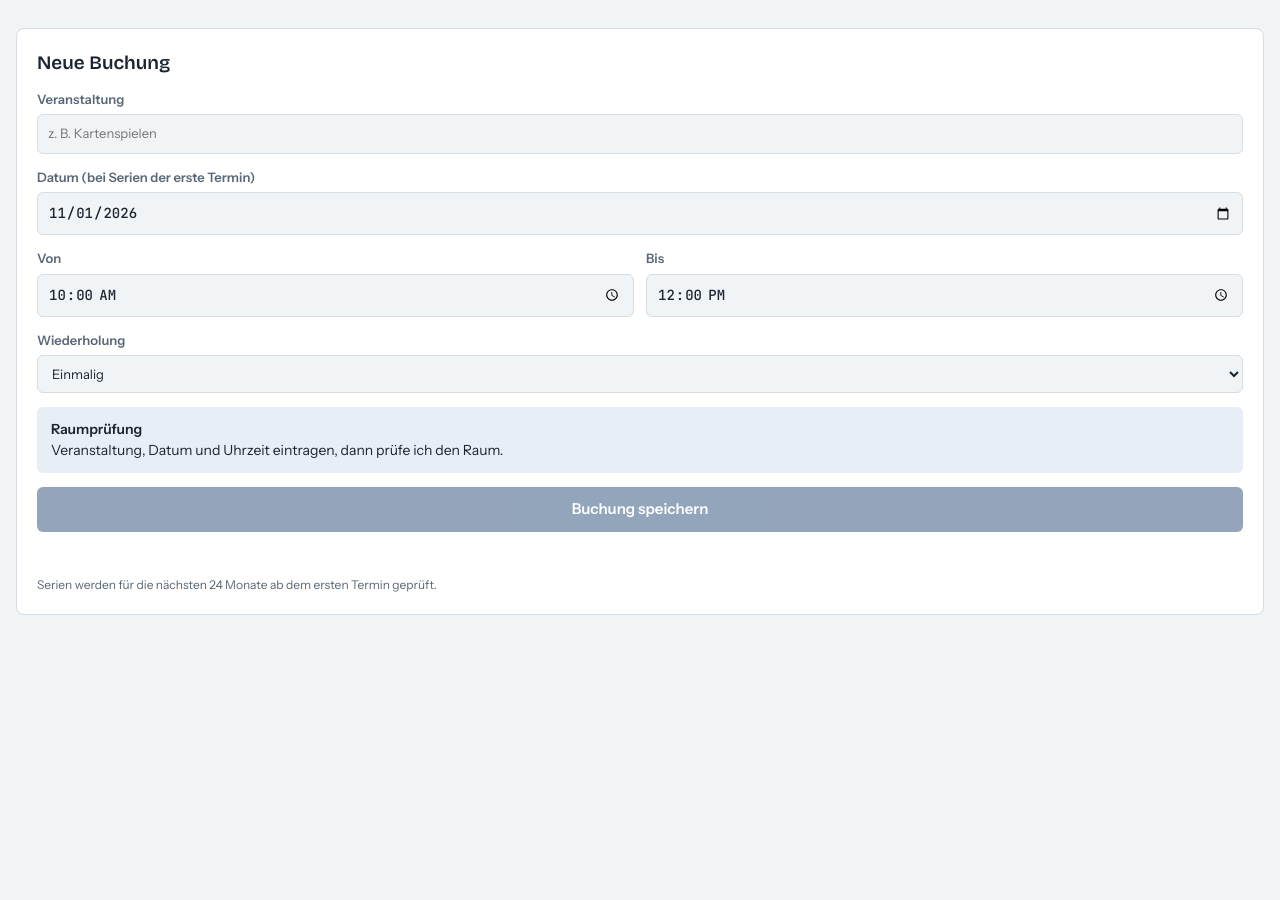
BookingForm › shows the server conflicts on a 409 race and offers to save anyway
In the field labelled "Veranstaltung": (640, 134) [37,114,1243,154], type "Chor"
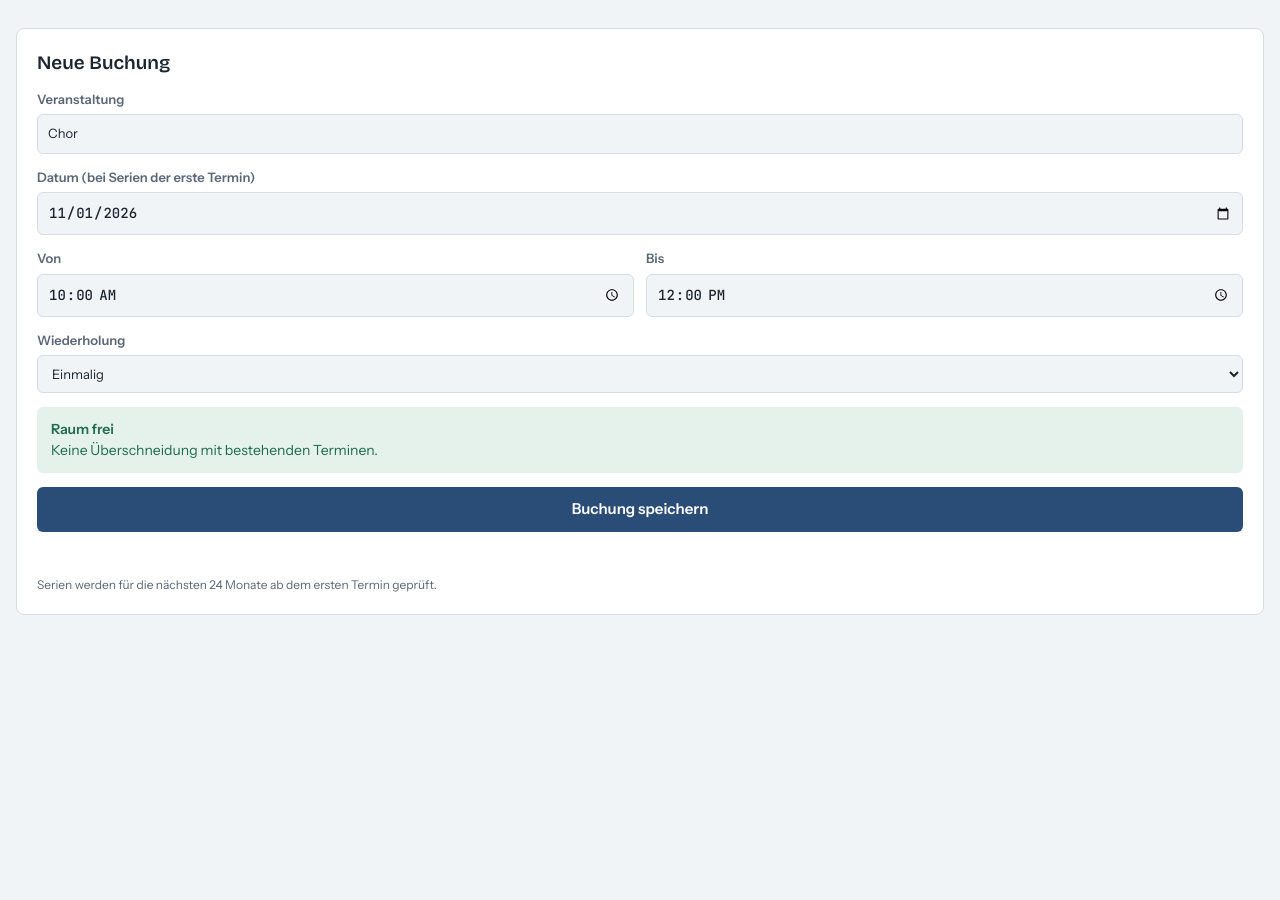
In the date field labelled "Datum (bei Serien der erste Termin)": (640, 214) [37,192,1243,235], type "2026-12-15"
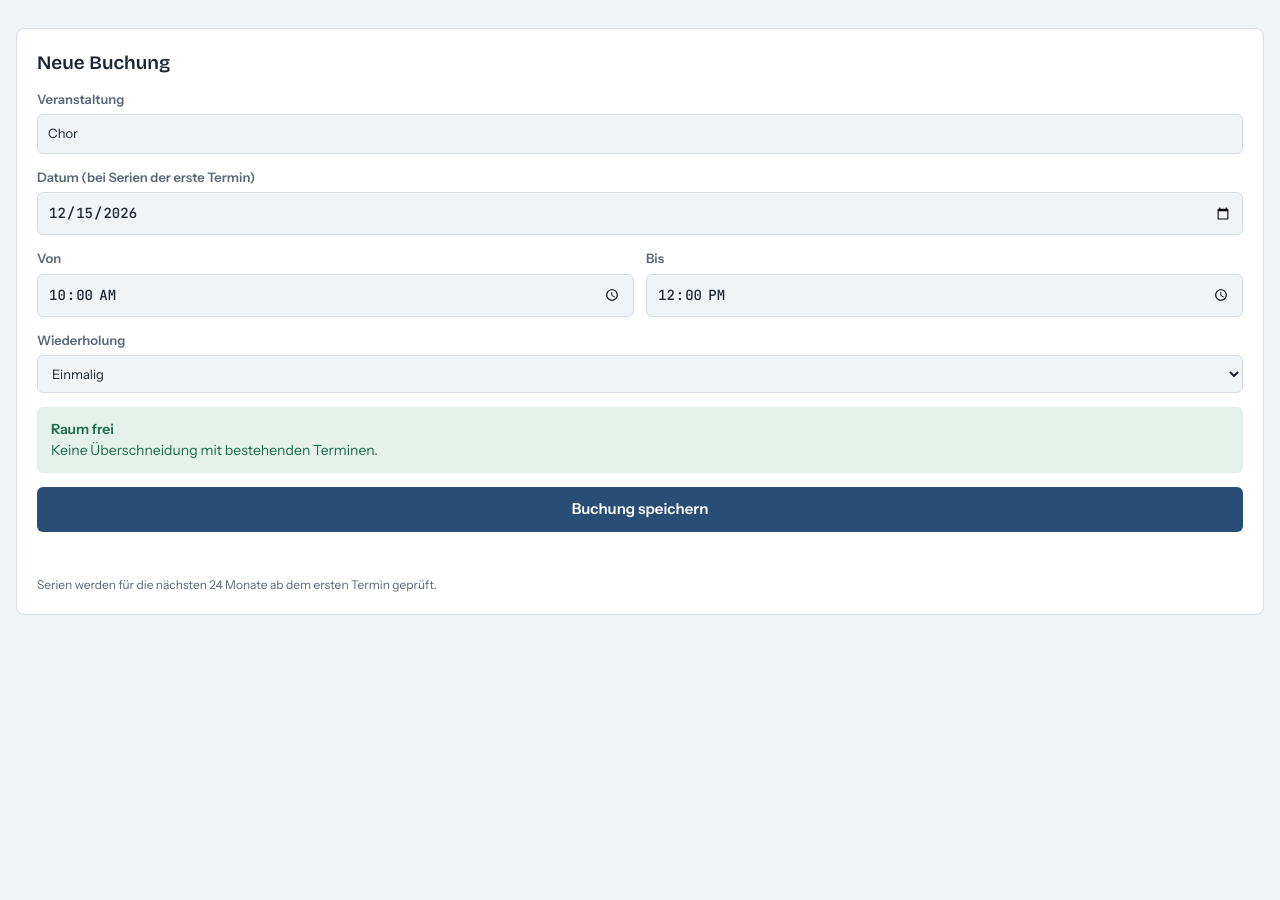
Replace the text in the time field labelled "Von" with "17:00": (336, 295) [37,274,634,316]
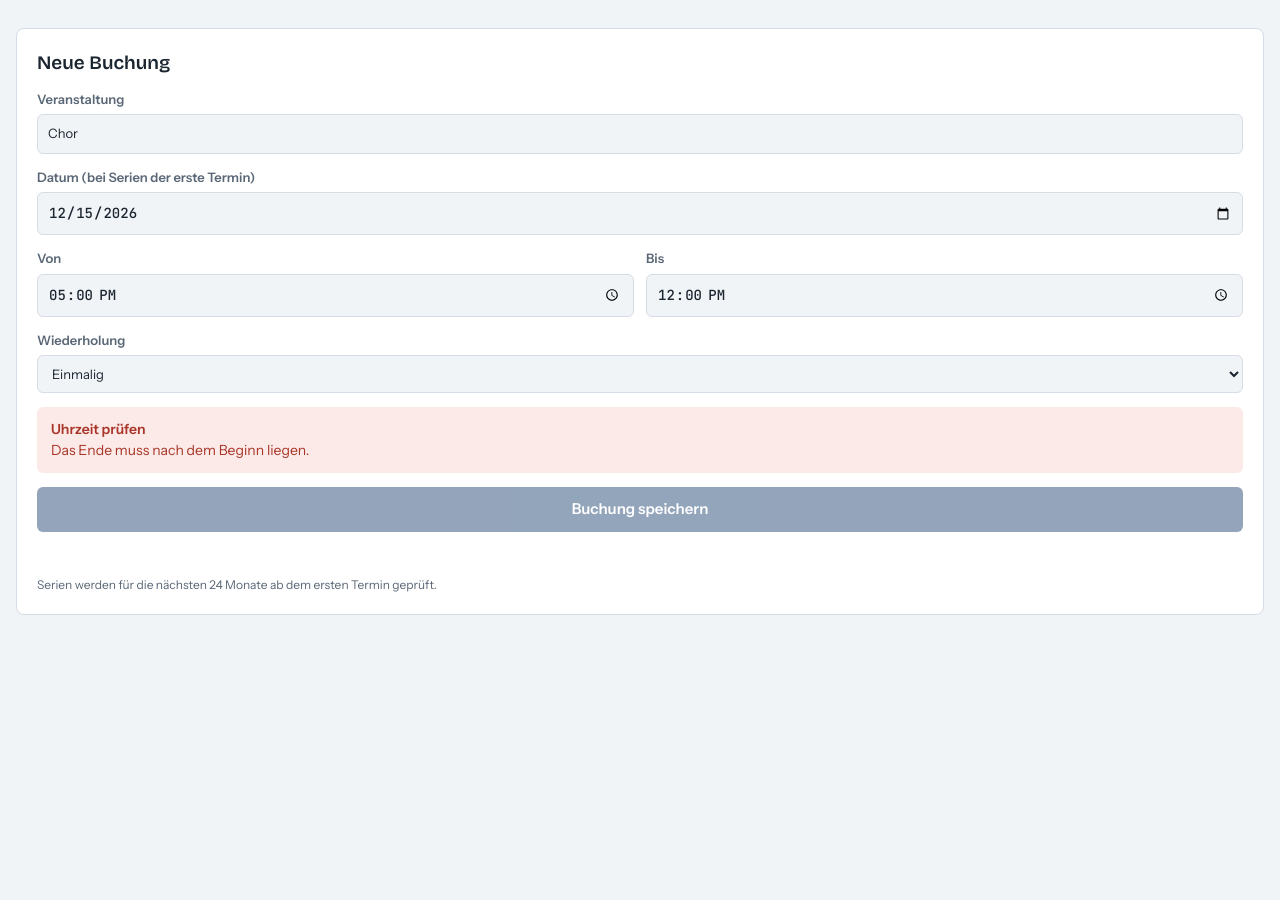
Replace the text in the time field labelled "Bis" with "19:00": (944, 295) [646,274,1243,316]
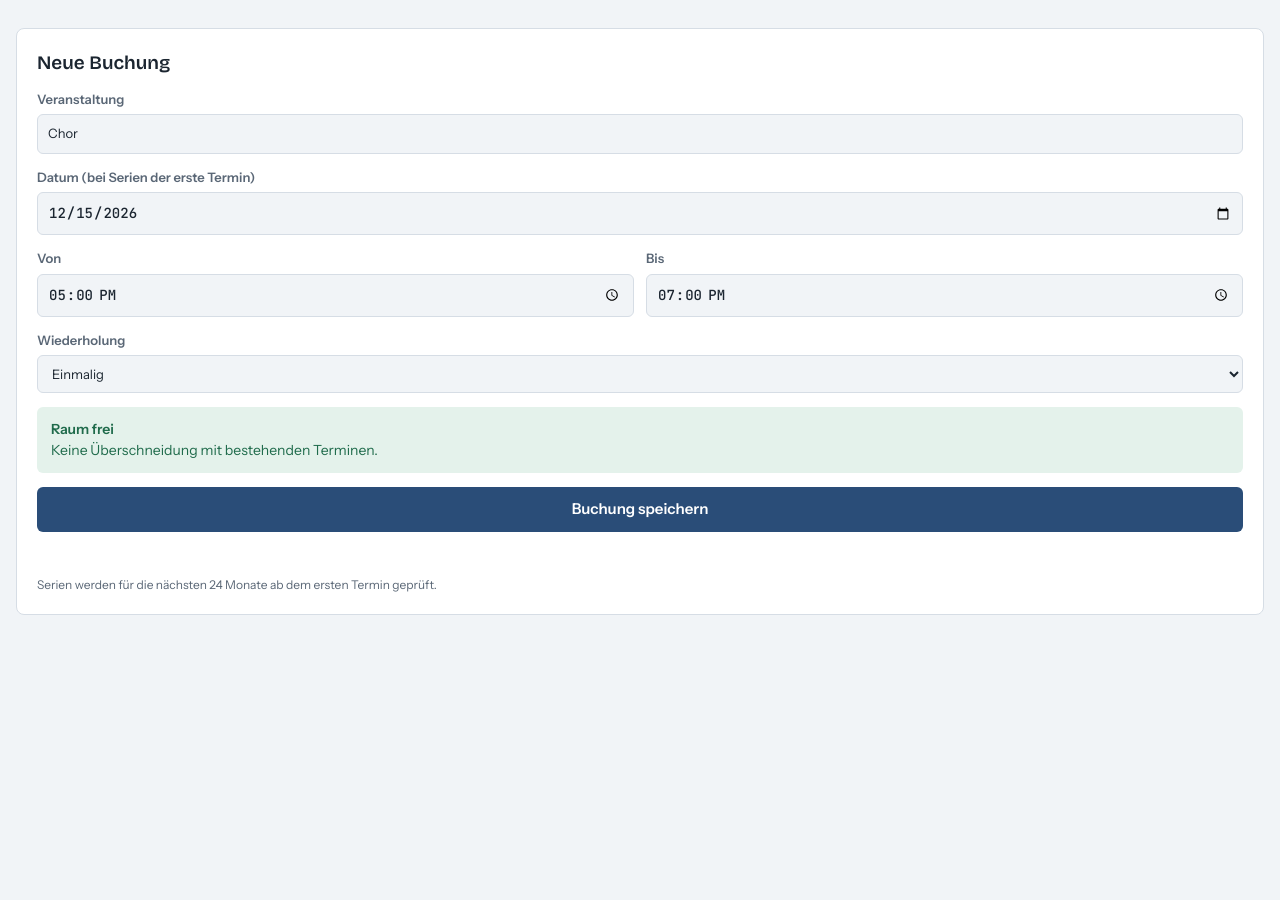
Click the button "Buchung speichern": click(640, 509) [37,487,1243,532]
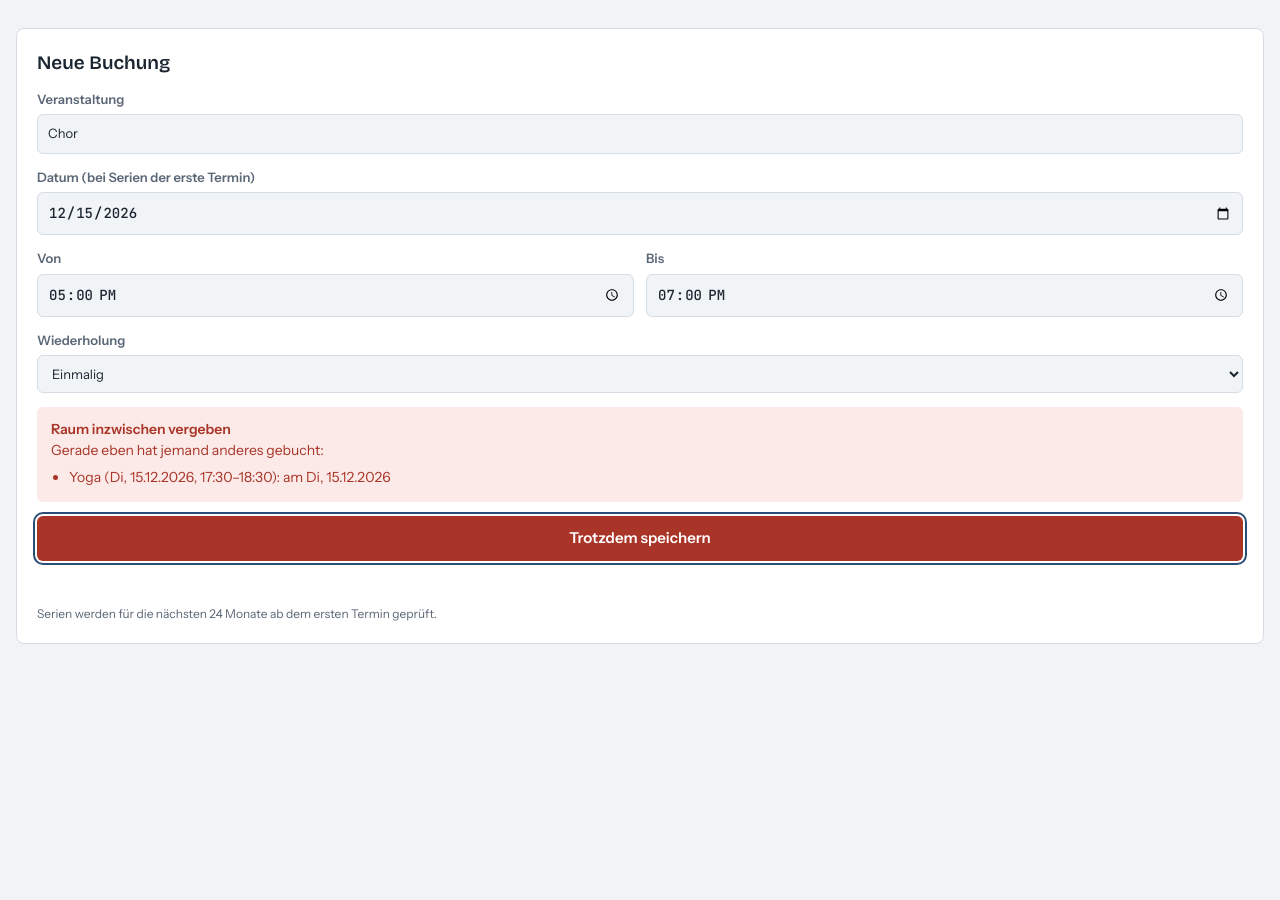
Expected: the button "Trotzdem speichern" is enabled, [37,516,1243,560]
Expected: the message with test id "check" shows "Raum inzwischen vergeben", [51,420,231,438]
Expected: the message with test id "check" shows "Yoga (Di, 15.12.2026, 17:30–18:30): am Di, 15.12.2026", [69,468,391,486]
